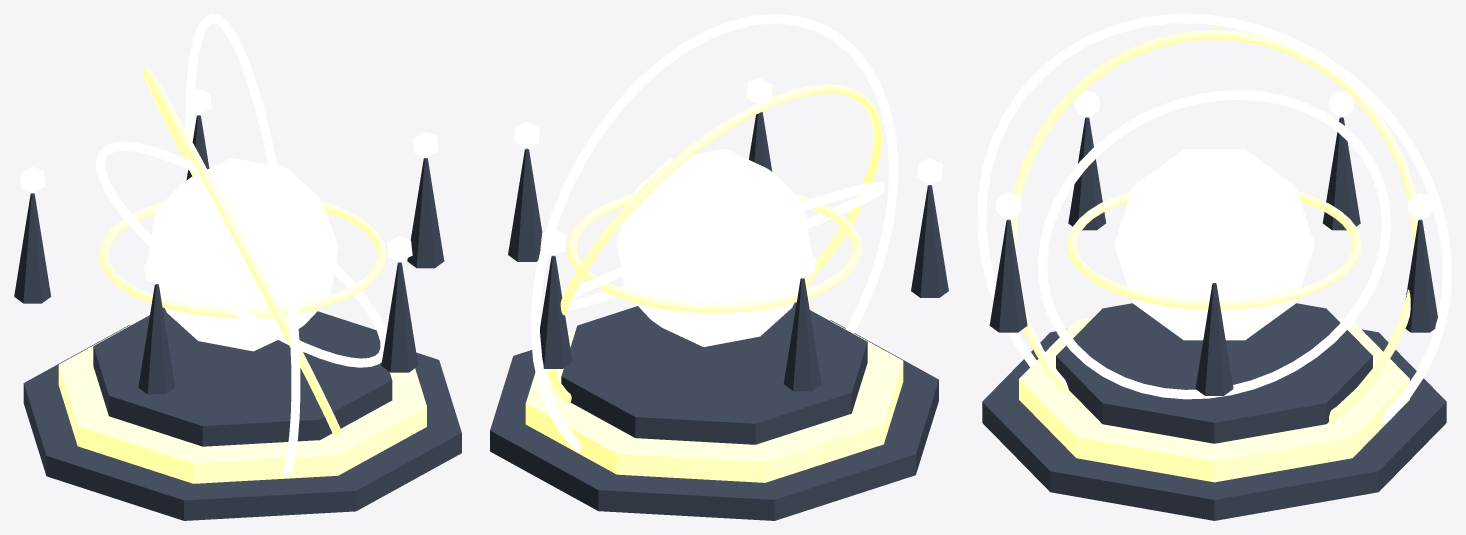
File: gpu-blender-v27.glb
3 views of the same model, side by side, from view 1: azimuth 30°, elevation 25°; view 2: azimuth 150°, elevation 25°; view 3: azimuth 270°, elevation 25° (orthographic). The views are drawn at different scales.
Visible parts, largest first — view 1: Cylinder.002, SovereignCore_mcp-lens, Cylinder, Cylinder.001, Torus.003, Torus.001, Torus.002, Torus, Cone.003, Cone.004, Cone.002, Cone (+5 smaller); view 2: Cylinder.002, SovereignCore_mcp-lens, Cylinder, Cylinder.001, Torus.003, Torus.002, Torus, Torus.001, Cone.002, Cone.003, Cone, Cone.001 (+4 smaller); view 3: SovereignCore_mcp-lens, Cylinder.002, Cylinder, Cylinder.001, Torus.003, Torus.001, Torus.002, Torus, Cone.004, Cone, Cone.001, Cone.002 (+2 smaller).
Part boxes in pixels (x1,y1,x2,y2): Cylinder.002: (93,307,392,446); SovereignCore_mcp-lens: (147,158,338,351); Cylinder: (23,325,461,520); Cylinder.001: (58,315,426,483); Torus.003: (185,14,300,476); Torus.001: (96,141,386,367); Torus.002: (142,68,341,435); Torus: (99,201,386,317); Cone.003: (138,284,175,394); Cone.004: (381,262,418,372); Cone.002: (14,193,50,303); Cone: (407,158,444,268); Cylinder.002: (561,302,867,444); SovereignCore_mcp-lens: (616,149,812,346); Cylinder: (490,320,938,520); Cylinder.001: (525,310,903,482); Torus.003: (530,14,898,452); Torus.002: (547,84,882,403); Torus: (567,193,861,312); Torus.001: (561,182,884,311); Cone.002: (783,278,821,391); Cone.003: (911,185,948,297); Cone: (508,148,542,261); Cone.001: (540,255,572,368); SovereignCore_mcp-lens: (1114,149,1314,340); Cylinder.002: (1056,303,1372,443); Cylinder: (982,329,1446,520); Cylinder.001: (1019,317,1409,482); Torus.003: (977,14,1451,424); Torus.001: (1038,90,1390,399); Torus.002: (1008,30,1420,422); Torus: (1067,191,1361,309); Cone.004: (989,219,1027,332); Cone: (1195,283,1233,395); Cone.001: (1405,219,1437,332); Cone.002: (1322,117,1360,230).
Bounding box in the file's own units: 4.41 × 4.7 × 4.49.
